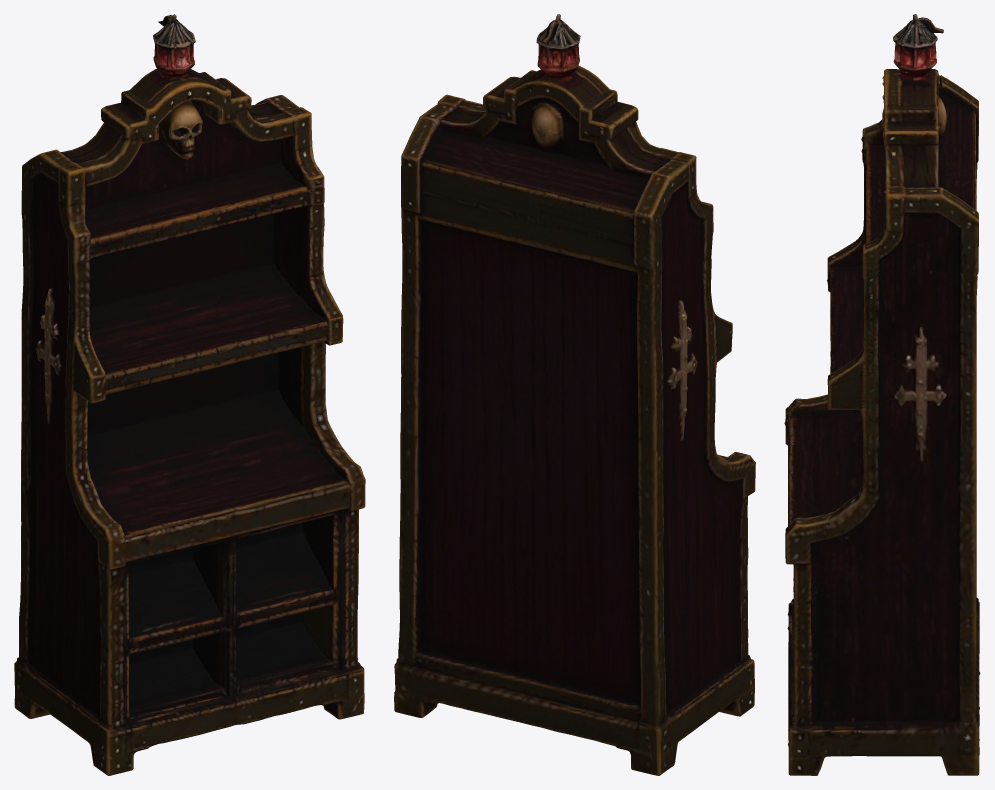
File: cabinet_nodrawer.glb
3 views of the same model, side by side, from view 1: azimuth 30°, elevation 25°; view 2: azimuth 150°, elevation 25°; view 3: azimuth 270°, elevation 25° (orthographic). The views are drawn at different scales.
Parts seen in each view (by area): view 1: tripo_node_71e40a12-6ac8-4d68-a1e0-dbe288751b72; view 2: tripo_node_71e40a12-6ac8-4d68-a1e0-dbe288751b72; view 3: tripo_node_71e40a12-6ac8-4d68-a1e0-dbe288751b72.
Boxes of the visible parts, <box> form: tripo_node_71e40a12-6ac8-4d68-a1e0-dbe288751b72: <box>14,14,365,775</box>; tripo_node_71e40a12-6ac8-4d68-a1e0-dbe288751b72: <box>394,14,755,775</box>; tripo_node_71e40a12-6ac8-4d68-a1e0-dbe288751b72: <box>784,14,980,775</box>.
Bounding box in the file's own units: 0.3977 × 1 × 0.2542.
Materials: 1 (1 with a texture image).
